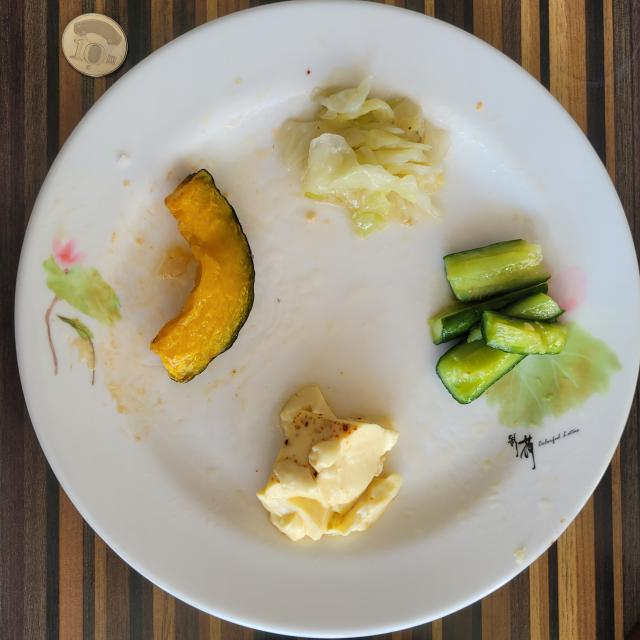cabbage: (279, 76, 450, 238)
coin: (61, 14, 128, 76)
cucumber: (429, 240, 569, 404)
pumpkin: (150, 169, 255, 382), (466, 278, 468, 279)
